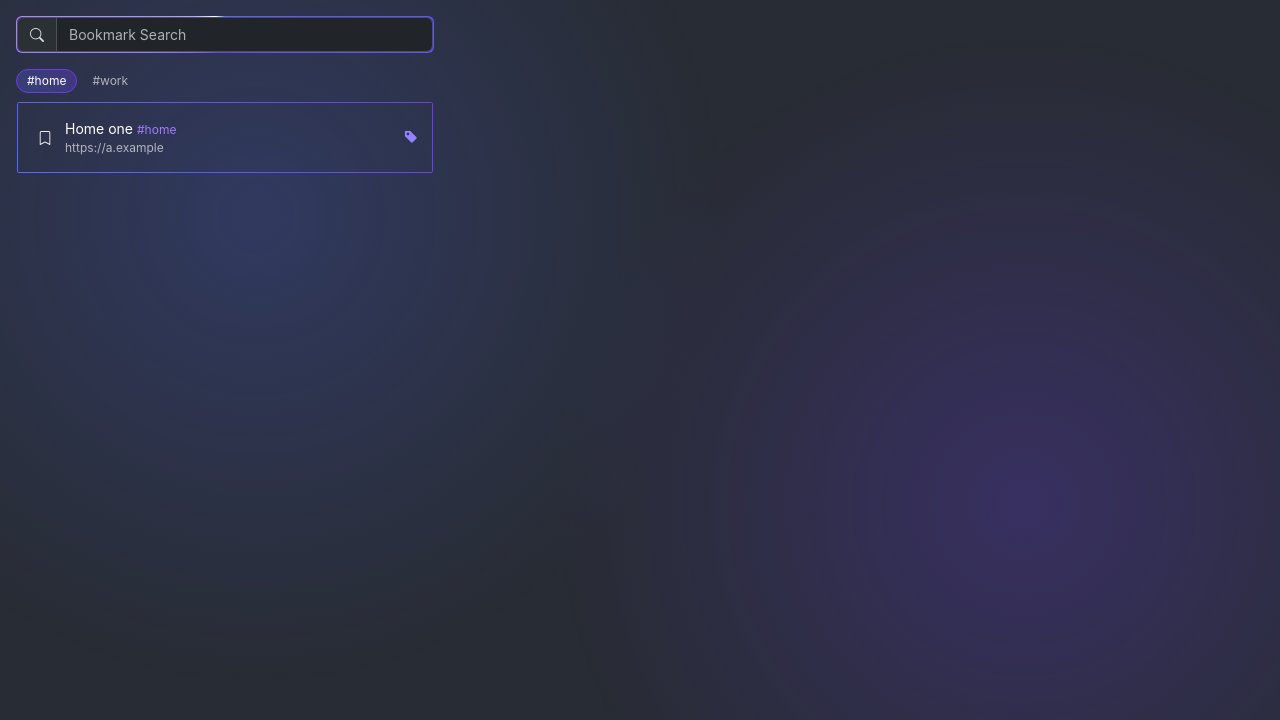
Test: tags › saves tags typed in the row editor
Click the button named "Edit tags" at x=411, y=138, box [389,102,433,173]
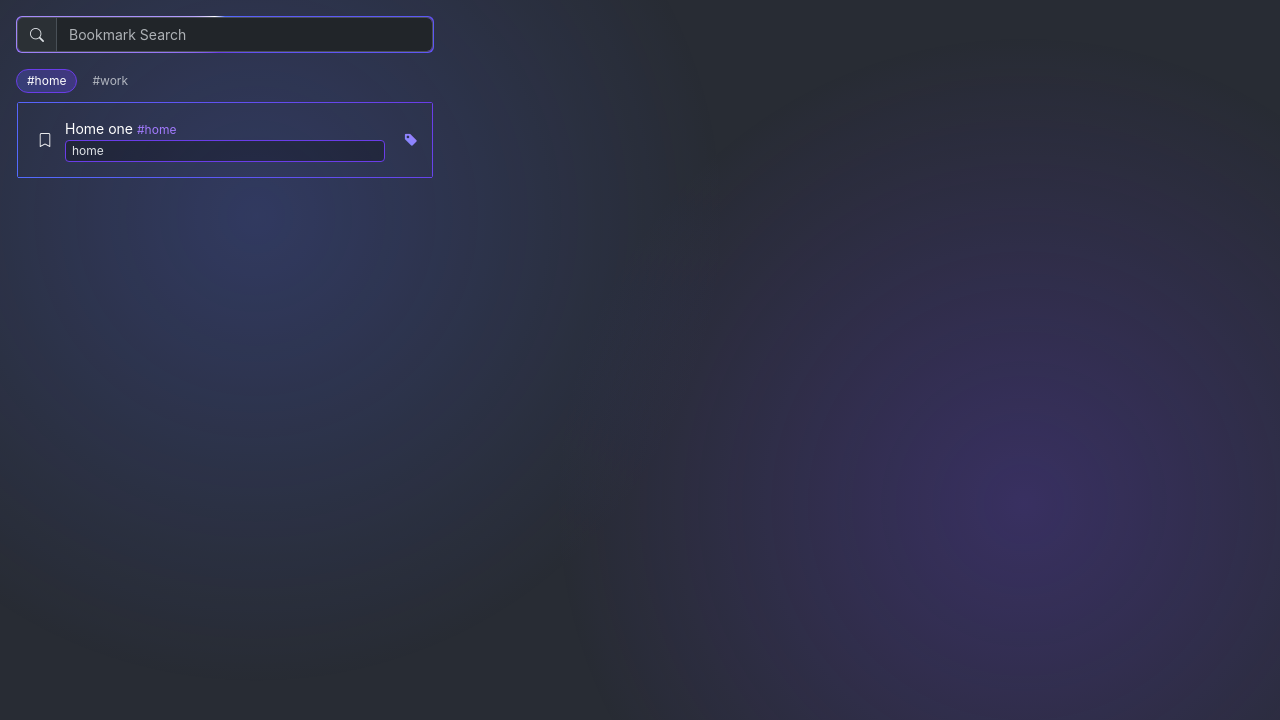
Replace the text in the field named "Tags" with "home, fun" at x=225, y=151, box [65,140,385,162]
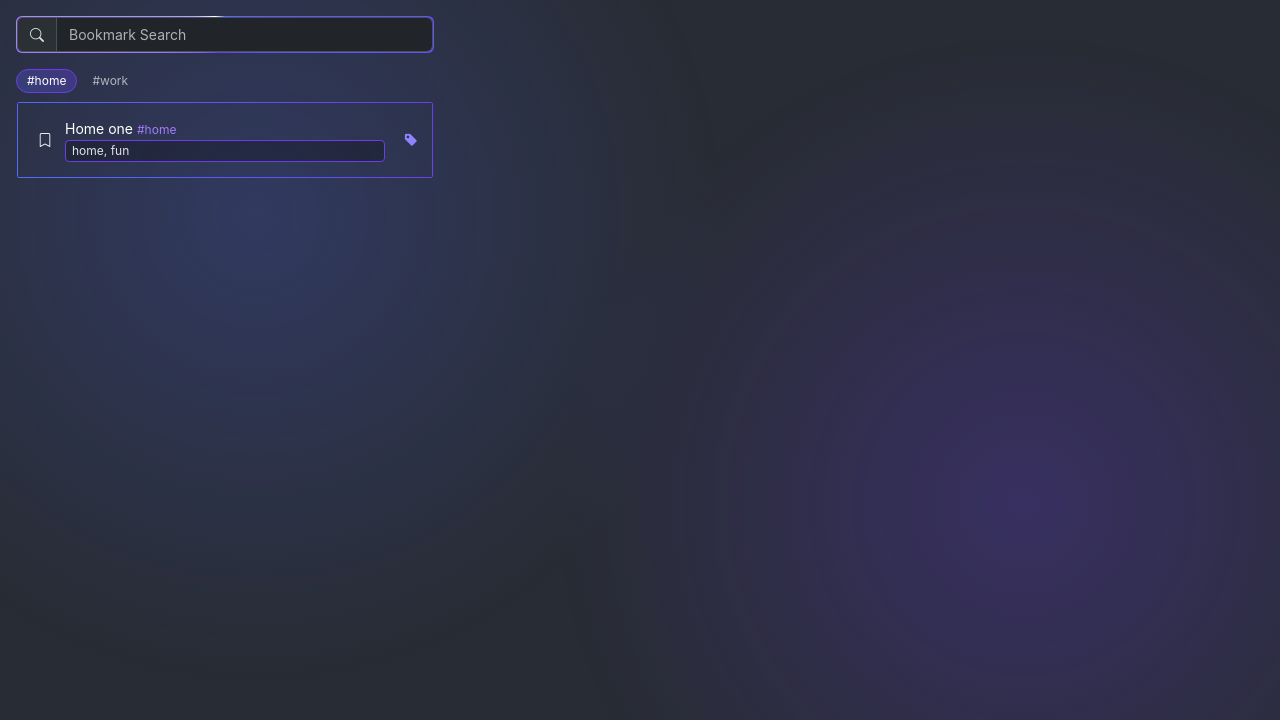
Press Enter in the field named "Tags", box [65,140,385,162]
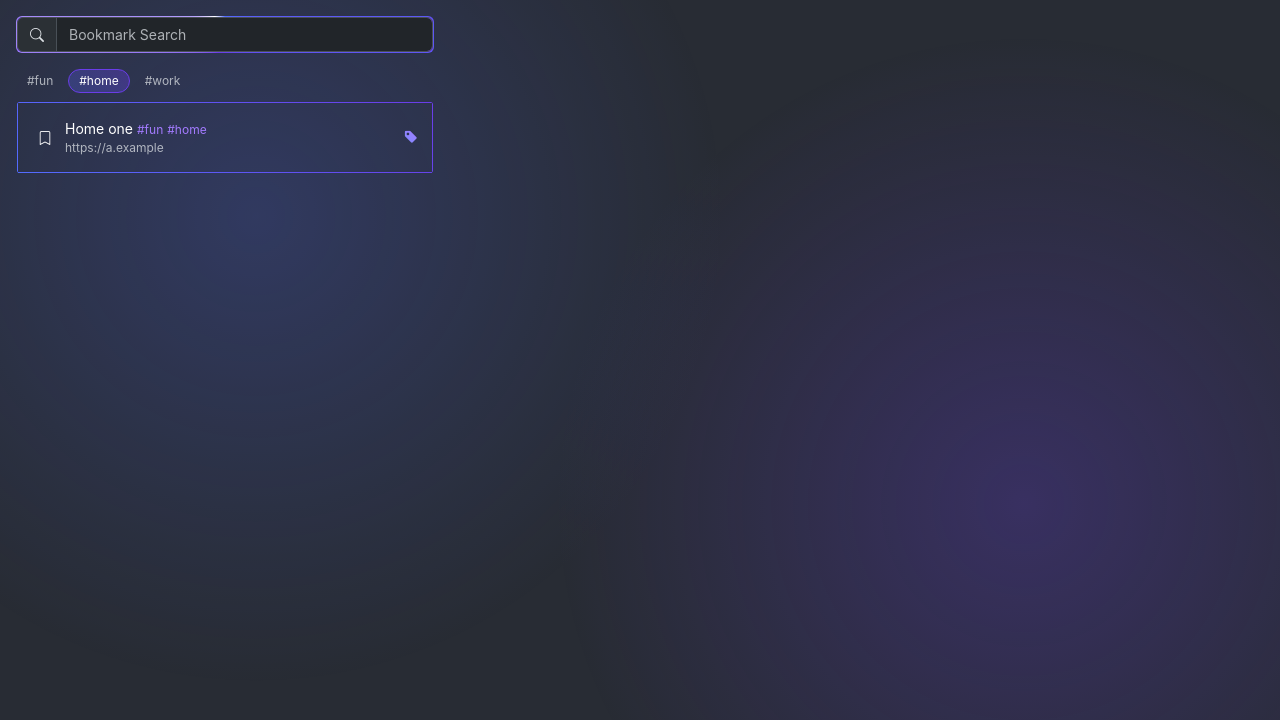
Now the tab "#fun" is shown, box [16,69,64,93]
